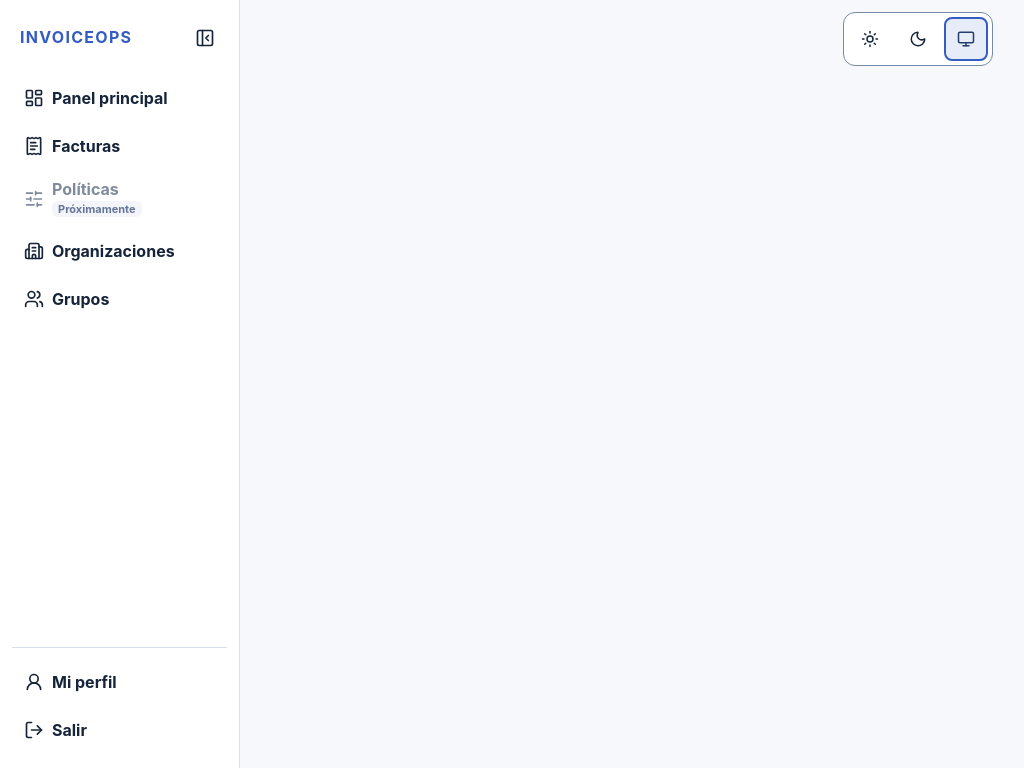
Test case: APP12 S2 identity and authorized workspace presentation › shows actual identity, memberships and existing dashboard entry points without loading invoice KPIs
expect the navigation bar is shown: met, box left=12, top=76, right=227, bottom=752
Click the link "Panel principal". click: [96, 98]
box: left=24, top=88, right=168, bottom=108
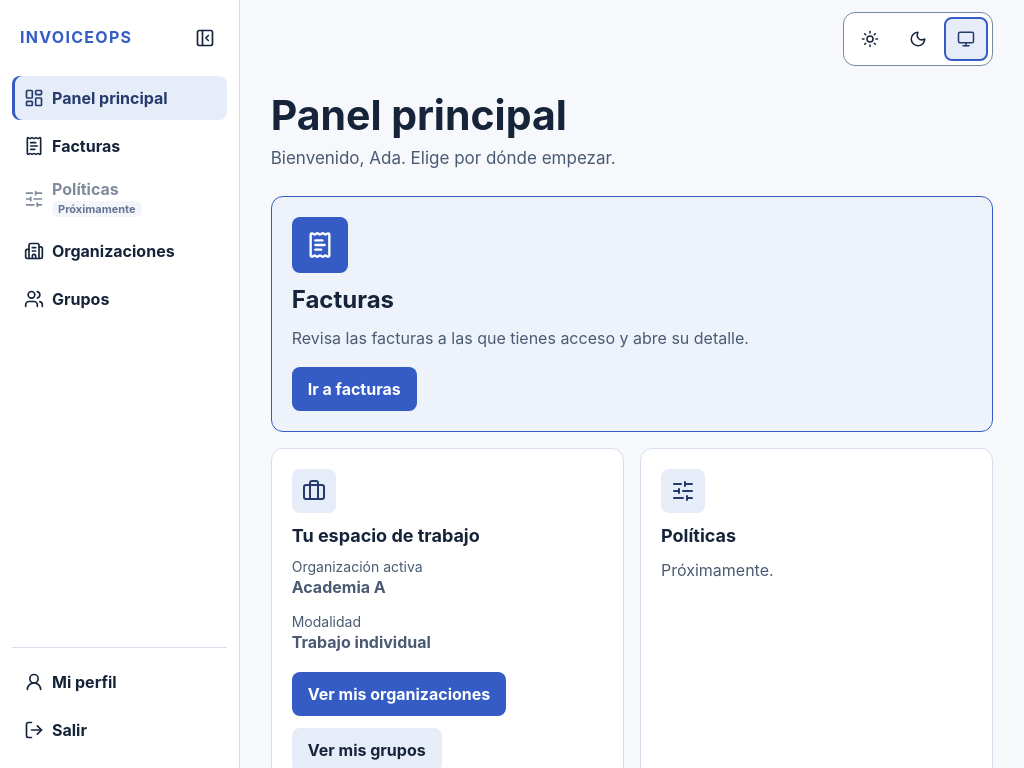
expect the heading "Tu espacio de trabajo" is shown: met, box left=292, top=526, right=480, bottom=546
expect the text "Bienvenido, Ada. Elige por dónde empezar." is shown: met, box left=271, top=148, right=616, bottom=168
Click the link "Ver mis organizaciones". click: [399, 694]
box: left=292, top=672, right=506, bottom=716
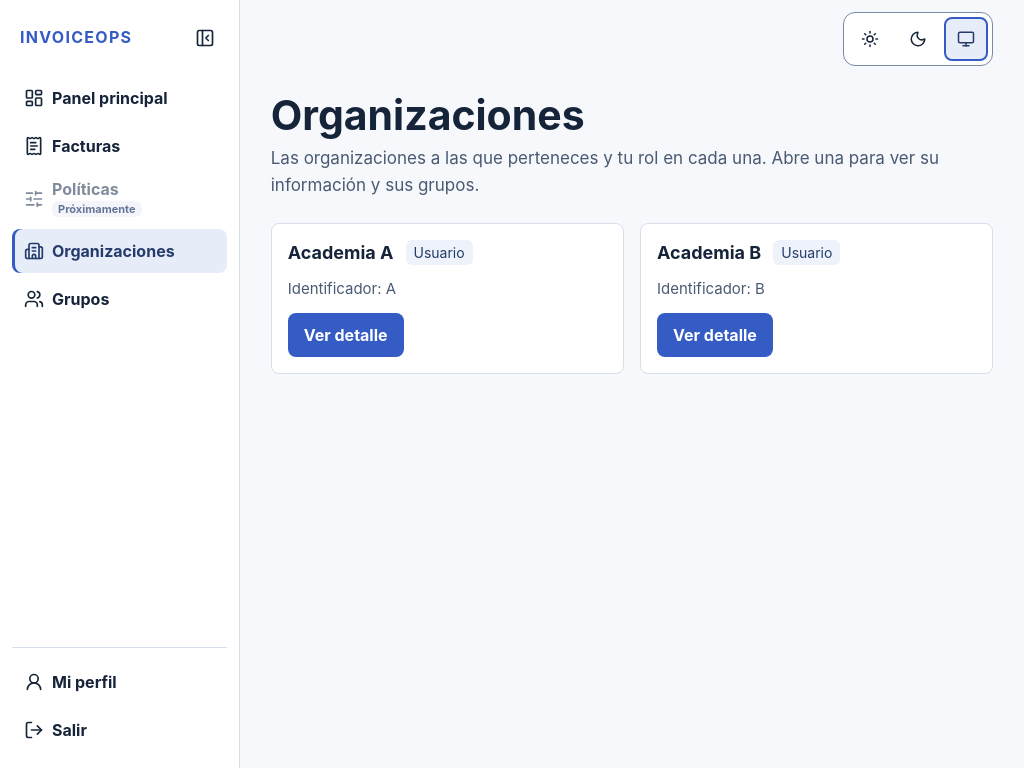
expect the heading "Organizaciones" is shown: met, box left=271, top=90, right=585, bottom=140
expect the link with aria-label "Ver detalle de Academia B" is shown: met, box left=657, top=313, right=773, bottom=357
